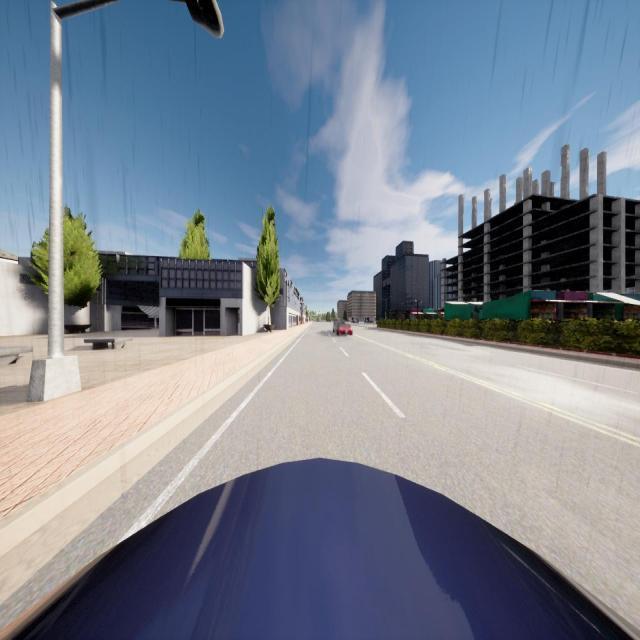Vehicle: (0, 460, 640, 640), (332, 319, 352, 336)
